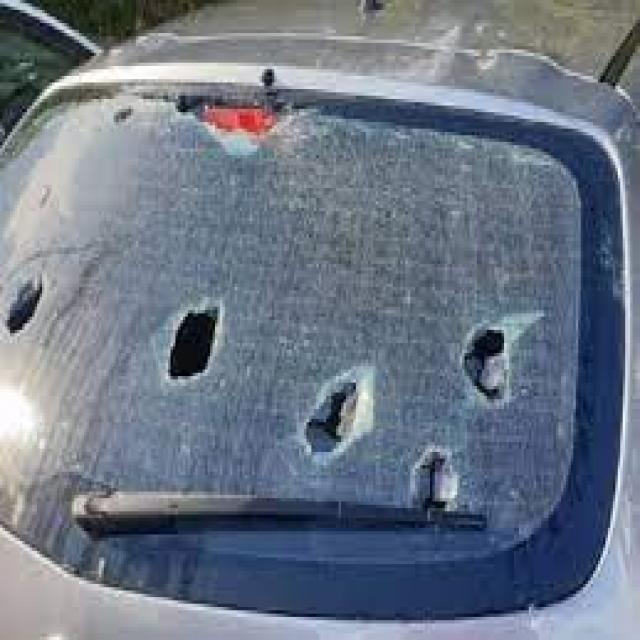minor: (22, 79, 597, 577)
